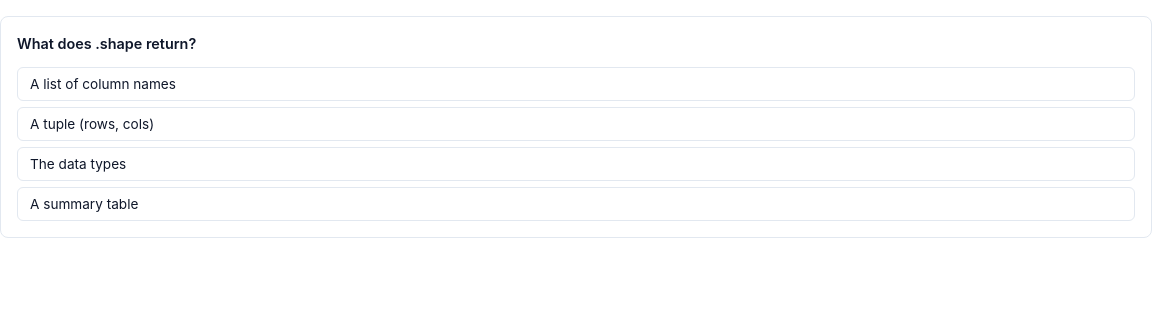
Test: QuizCard › explains the answer and allows a fresh attempt after a mistake
Click the button "A list of column names".
click(103, 84)  # box [17,67,1135,101]
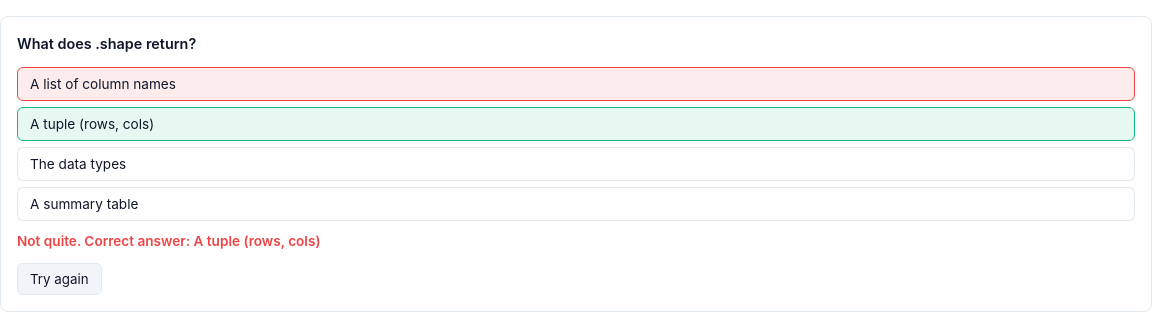
Result: the button "Try again" is shown
Result: the message shows "Correct answer: A tuple (rows, cols)" at [17,233,320,249]
Click the button "Try again".
click(59, 279)  # box [17,263,102,295]
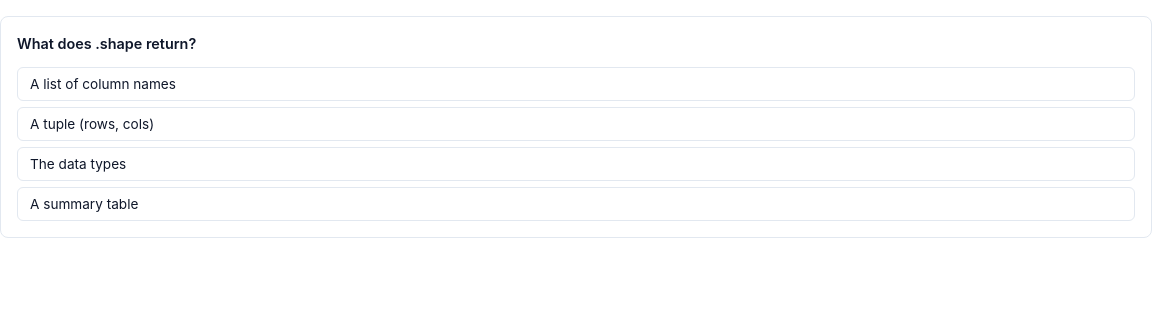
Click the button "A tuple (rows, cols)".
click(92, 124)  # box [17,107,1135,141]
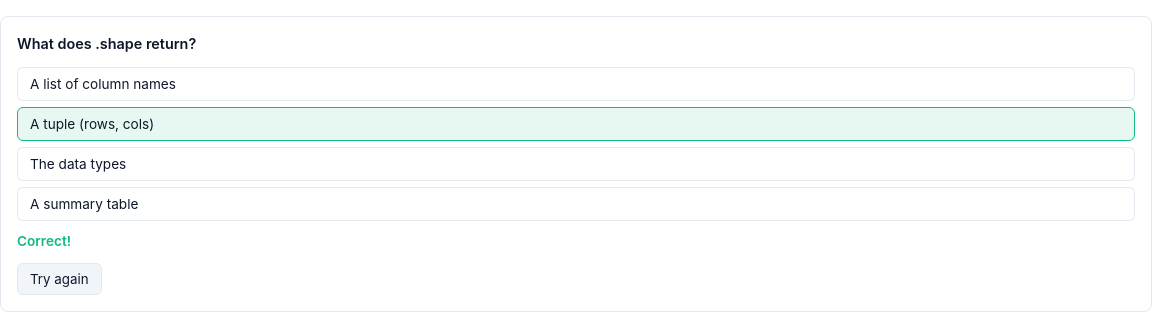
Result: the text "Correct!" is shown at [17,233,71,249]
